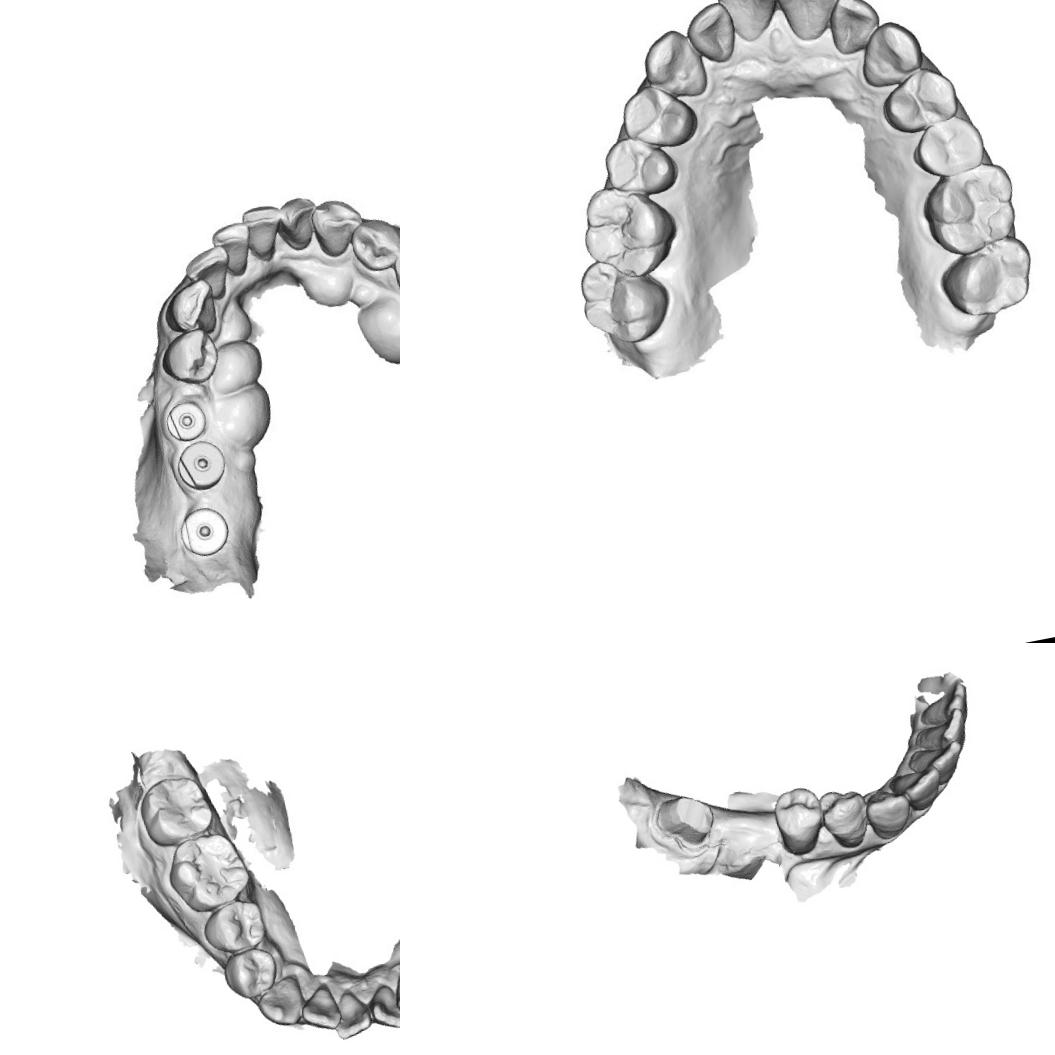canine: (636, 22, 712, 108), (853, 15, 928, 90), (306, 191, 368, 264), (162, 274, 224, 339), (252, 972, 308, 1032), (860, 783, 916, 843)
crown: (648, 788, 720, 857)
implant: (171, 497, 236, 563), (170, 436, 230, 497), (159, 394, 209, 446)
incisor: (680, 0, 744, 69), (771, 0, 849, 47), (822, 0, 885, 58), (708, 0, 784, 48), (180, 243, 236, 307), (904, 740, 968, 790), (909, 704, 970, 755), (885, 765, 945, 815), (276, 190, 320, 256), (912, 679, 972, 727), (238, 203, 284, 264), (210, 219, 255, 279), (294, 980, 342, 1036), (328, 985, 372, 1042), (363, 979, 400, 1035), (388, 965, 400, 1016)
molar: (574, 175, 685, 287), (914, 157, 1025, 262), (572, 247, 676, 352), (935, 231, 1041, 323), (160, 825, 256, 919), (132, 768, 220, 852)
premolar: (875, 60, 964, 138), (614, 78, 703, 156), (598, 128, 683, 205), (905, 110, 990, 182), (766, 781, 830, 859), (156, 322, 226, 388), (196, 894, 268, 958), (816, 782, 872, 852), (216, 944, 282, 1002), (350, 217, 400, 273), (386, 236, 400, 306)
